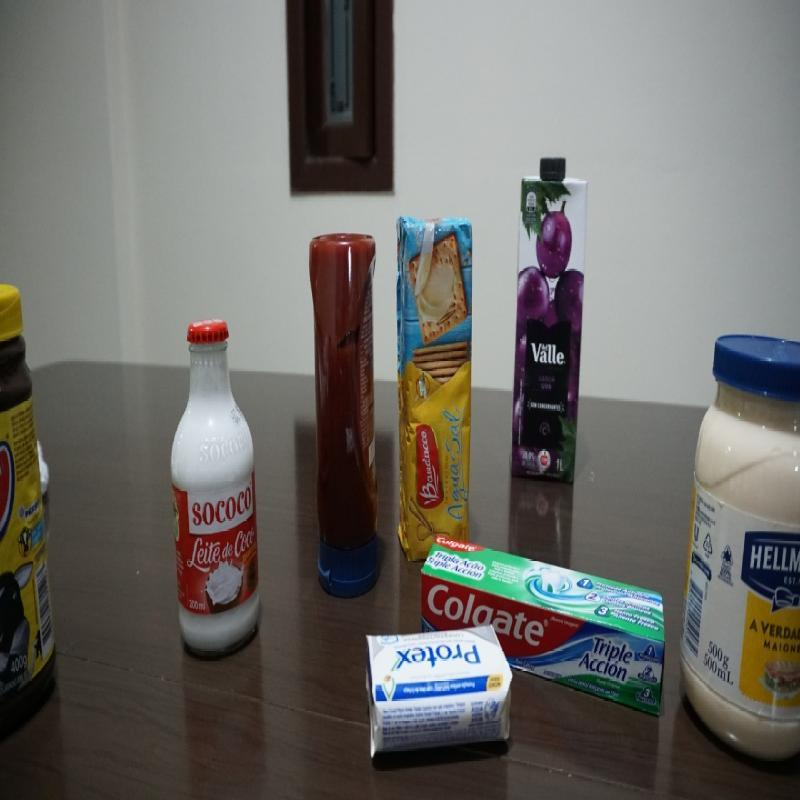Chocolate Powder: (0, 276, 57, 724)
Coconut Milk: (169, 314, 261, 664)
Cracker: (396, 212, 474, 562)
Ketchup: (309, 231, 379, 598)
Mayonnaise: (679, 332, 800, 765)
Soap: (360, 620, 513, 769)
Toothpaste: (420, 532, 668, 640)
